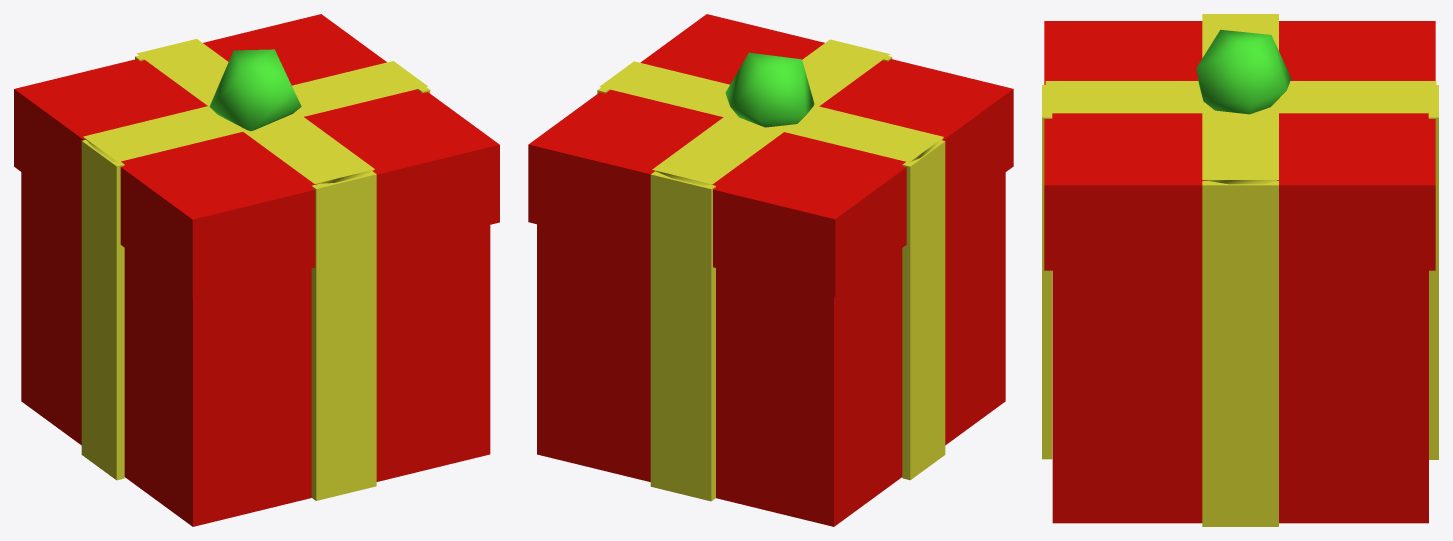
File: giftbox_2.fbx
3 views of the same model, side by side, from view 1: azimuth 30°, elevation 25°; view 2: azimuth 150°, elevation 25°; view 3: azimuth 270°, elevation 25° (orthographic). The views are drawn at different scales.
Parts seen in each view (by area): view 1: Cube, Cube.003, Cube.005, Cube.004, Cube.001, Sphere; view 2: Cube, Cube.002, Cube.005, Cube.004, Cube.001, Sphere; view 3: Cube, Cube.006, Cube.001, Cube.004, Sphere, Cube.003, Cube.002.
Part boxes in pixels (box(x1,y1,x2,y2)): Cube: box(14, 14, 499, 526); Cube.003: box(311, 171, 376, 500); Cube.005: box(81, 140, 124, 480); Cube.004: box(83, 61, 427, 162); Cube.001: box(136, 39, 374, 183); Sphere: box(209, 49, 301, 131); Cube: box(528, 14, 1013, 526); Cube.002: box(650, 171, 715, 501); Cube.005: box(902, 140, 945, 480); Cube.004: box(599, 61, 943, 162); Cube.001: box(652, 39, 890, 185); Sphere: box(725, 52, 814, 127); Cube: box(1044, 21, 1435, 523); Cube.006: box(1202, 181, 1278, 526); Cube.001: box(1045, 81, 1436, 113); Cube.004: box(1202, 14, 1278, 184); Sphere: box(1196, 29, 1291, 114); Cube.003: box(1042, 85, 1052, 459); Cube.002: box(1428, 85, 1438, 459).
Bounding box in the file's own units: 211 × 240 × 211.
